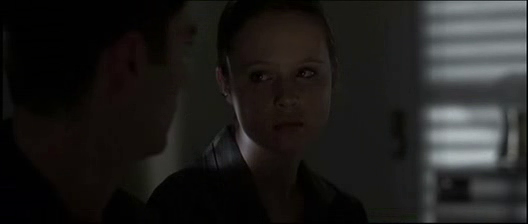cu: (1, 1, 528, 224)
face: (231, 39, 331, 152)
person: (147, 1, 368, 224)
